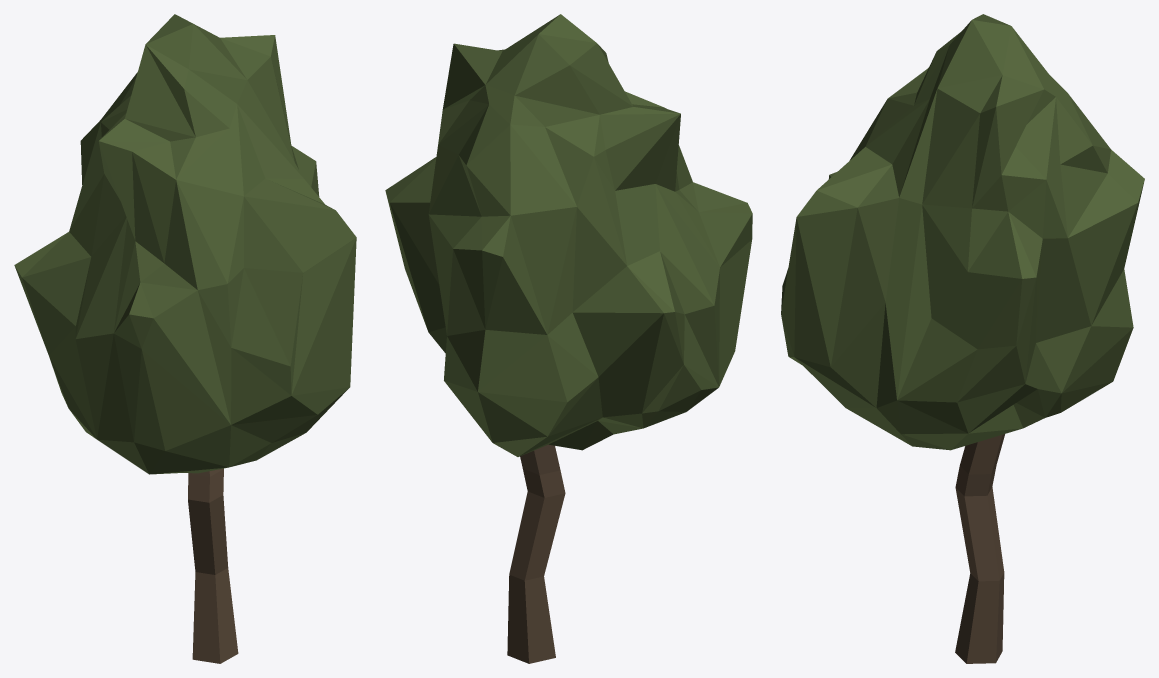
Rendered from Tree_084.fbx.
The picture shows the model from 3 angles, left to right: view 1: azimuth 30°, elevation 25°; view 2: azimuth 150°, elevation 25°; view 3: azimuth 270°, elevation 25°; orthographic projection. The views are drawn at different scales.
Parts seen in each view (by area): view 1: Tree_084; view 2: Tree_084; view 3: Tree_084.
Part boxes in pixels (x1,y1,x2,y2): Tree_084: (14, 14, 356, 663); Tree_084: (385, 14, 752, 663); Tree_084: (781, 14, 1144, 663).
Size of the model in its own units: 0.6619 by 1.39 by 0.7333.
Materials: 1 (1 with a texture image).
